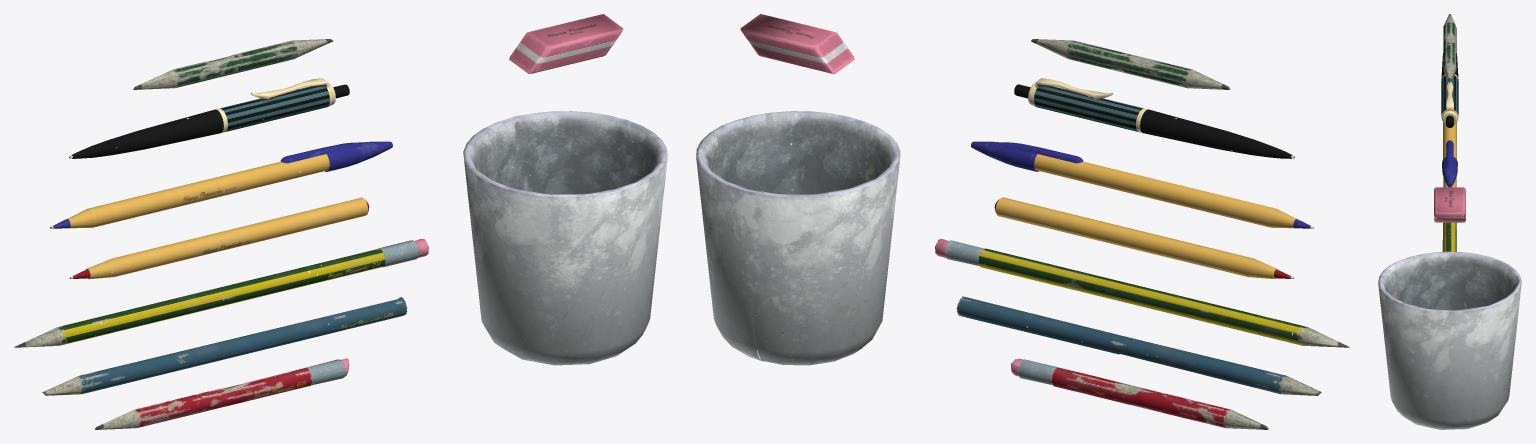
Rendered from ph_stationery.glb.
3 views of the same model, side by side, from view 1: azimuth 30°, elevation 25°; view 2: azimuth 150°, elevation 25°; view 3: azimuth 270°, elevation 25° (orthographic). The views are drawn at different scales.
Visible parts, largest first — view 1: stationery_supplies_pencilcup, stationery_supplies_pencil_new_a, stationery_supplies_pen_blue, stationery_supplies_pencil_new_b, stationery_supplies_pen_fancy, stationery_supplies_pen_red, stationery_supplies_pencil_used, stationery_supplies_eraser, stationery_supplies_pencil_old; view 2: stationery_supplies_pencilcup, stationery_supplies_pencil_new_a, stationery_supplies_pencil_new_b, stationery_supplies_pen_blue, stationery_supplies_pen_fancy, stationery_supplies_pen_red, stationery_supplies_pencil_used, stationery_supplies_eraser, stationery_supplies_pencil_old; view 3: stationery_supplies_pencilcup, stationery_supplies_eraser, stationery_supplies_pen_fancy, stationery_supplies_pen_blue, stationery_supplies_pencil_old, stationery_supplies_pencil_new_a.
Part boxes in pixels (<box>): stationery_supplies_pencilcup: <box>463,111,667,365</box>; stationery_supplies_pencil_new_a: <box>14,239,428,347</box>; stationery_supplies_pen_blue: <box>50,141,392,228</box>; stationery_supplies_pencil_new_b: <box>42,297,407,395</box>; stationery_supplies_pen_fancy: <box>69,78,349,158</box>; stationery_supplies_pen_red: <box>69,197,369,279</box>; stationery_supplies_pencil_used: <box>95,358,349,429</box>; stationery_supplies_eraser: <box>509,14,623,73</box>; stationery_supplies_pencil_old: <box>133,39,333,89</box>; stationery_supplies_pencilcup: <box>696,111,900,365</box>; stationery_supplies_pencil_new_a: <box>935,238,1349,347</box>; stationery_supplies_pencil_new_b: <box>956,296,1321,395</box>; stationery_supplies_pen_blue: <box>971,141,1313,228</box>; stationery_supplies_pen_fancy: <box>1014,78,1294,158</box>; stationery_supplies_pen_red: <box>994,197,1294,279</box>; stationery_supplies_pencil_used: <box>1010,358,1268,429</box>; stationery_supplies_eraser: <box>740,14,854,73</box>; stationery_supplies_pencil_old: <box>1031,39,1230,89</box>; stationery_supplies_pencilcup: <box>1378,251,1521,429</box>; stationery_supplies_eraser: <box>1434,187,1465,222</box>; stationery_supplies_pen_fancy: <box>1441,53,1458,127</box>; stationery_supplies_pen_blue: <box>1442,122,1457,187</box>; stationery_supplies_pencil_old: <box>1443,14,1456,82</box>; stationery_supplies_pencil_new_a: <box>1443,222,1456,251</box>.
Bounding box in the file's own units: 0.3019 × 0.1643 × 0.0837.
Materials: 1 (1 with a texture image).
